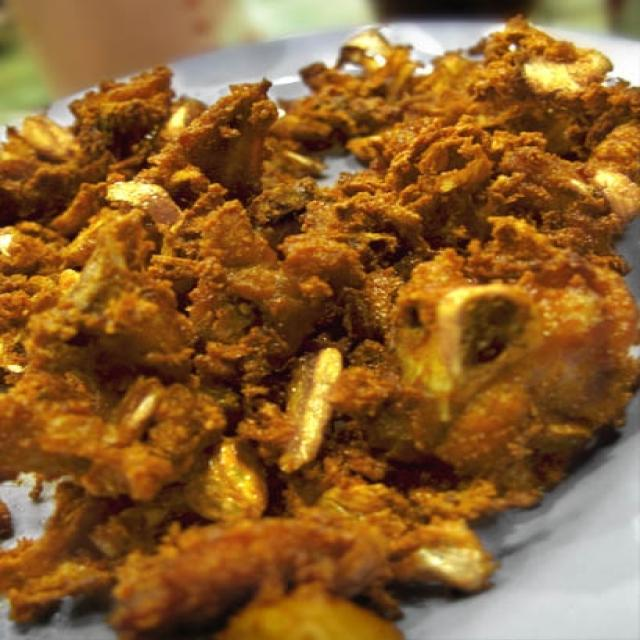鸡肉料理 含炸鸡: (5, 25, 615, 620)
